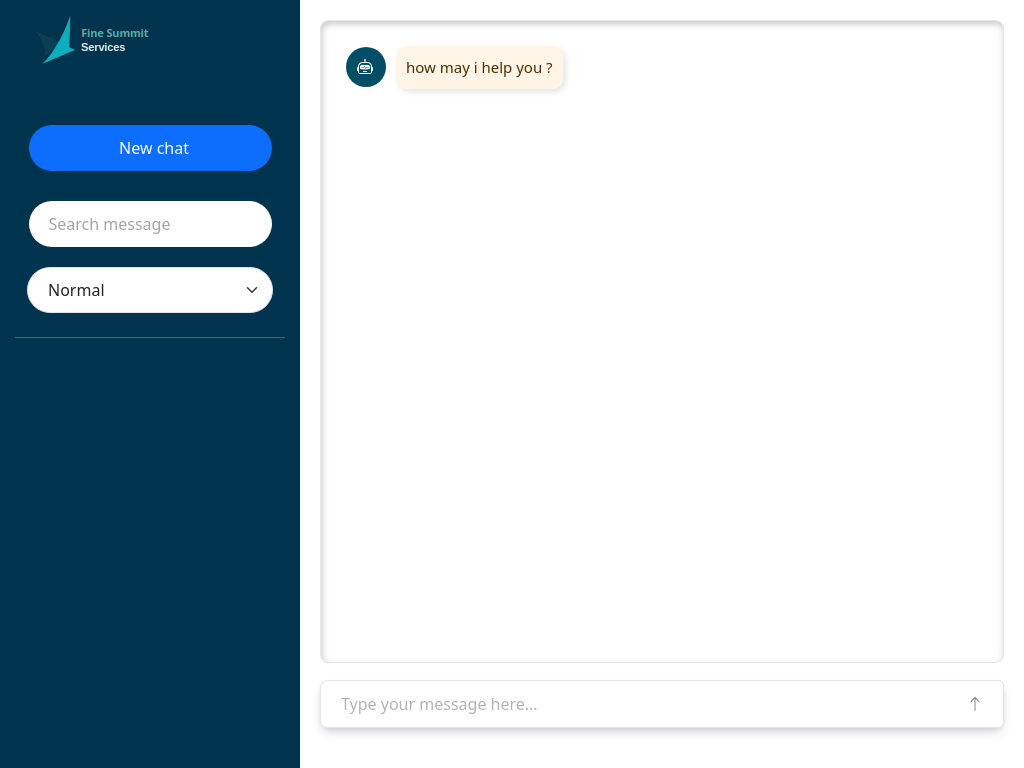
Test case: Dashboard Component Tests › should type in the input field and send messages by clicking the "send" button
The width and height of the screenshot is (1024, 768).
Type "Test message 1" into the field with id "messenger" at (634, 704), box x1=320 y1=680 x2=948 y2=728
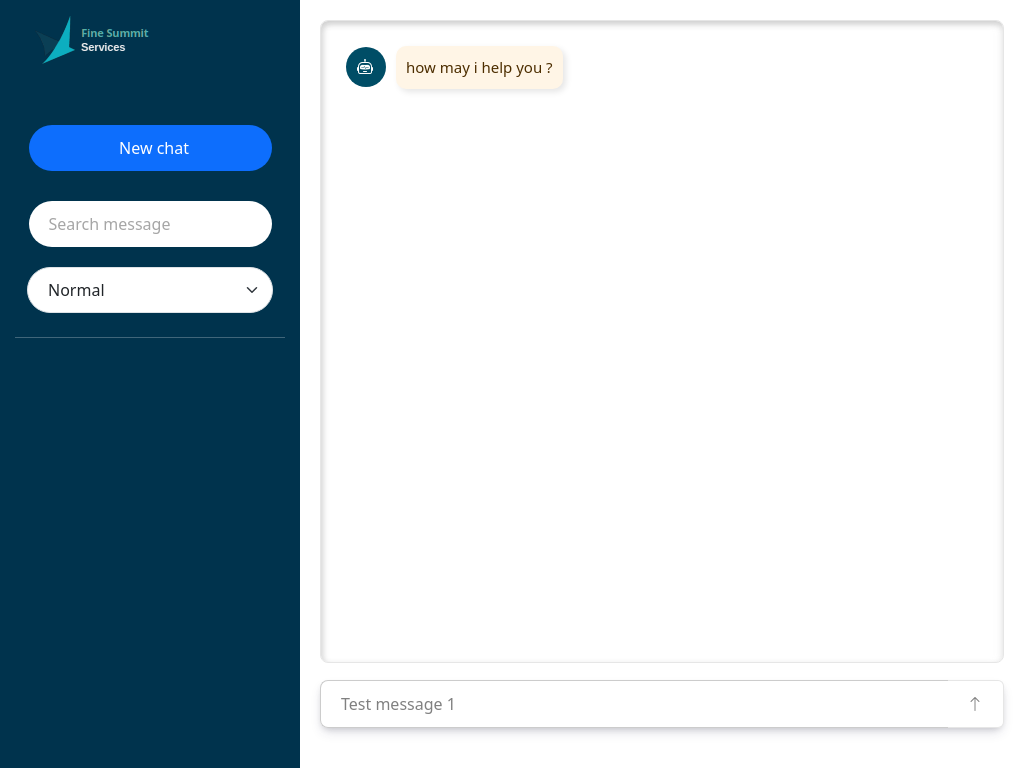
Click the button with id "send" at (976, 704), box x1=947 y1=680 x2=1004 y2=728
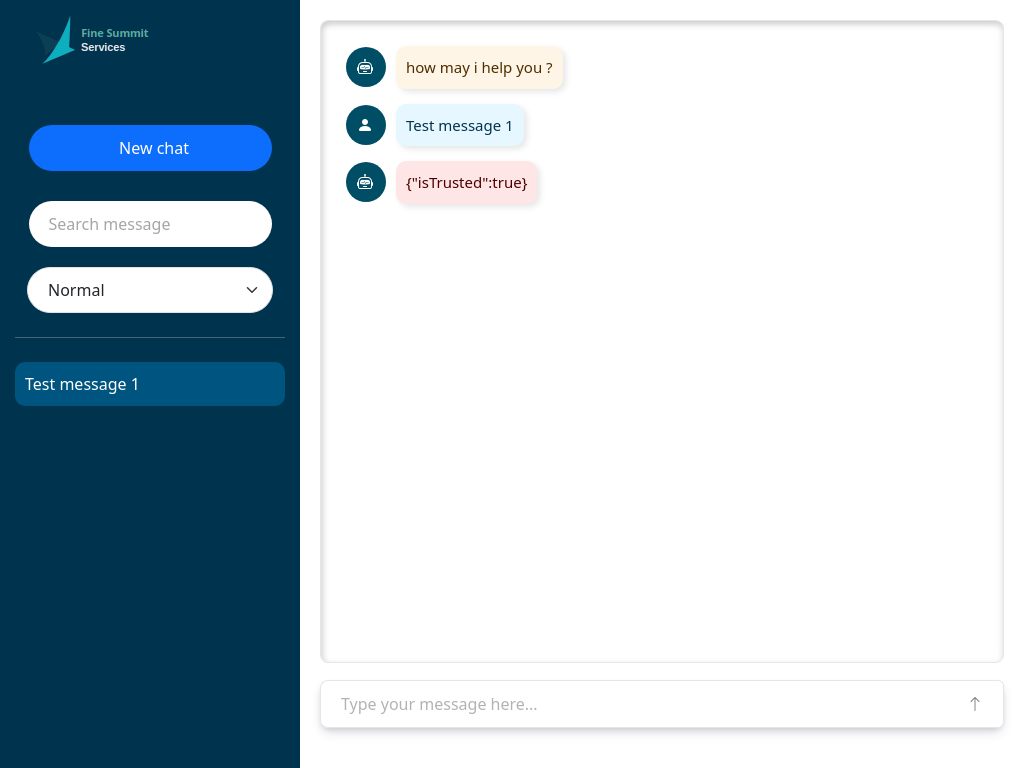
expect the text "Test message 1" is shown: met, box x1=396 y1=104 x2=524 y2=146
Type "Test message 2" into the field with id "messenger" at (634, 704), box x1=320 y1=680 x2=948 y2=728
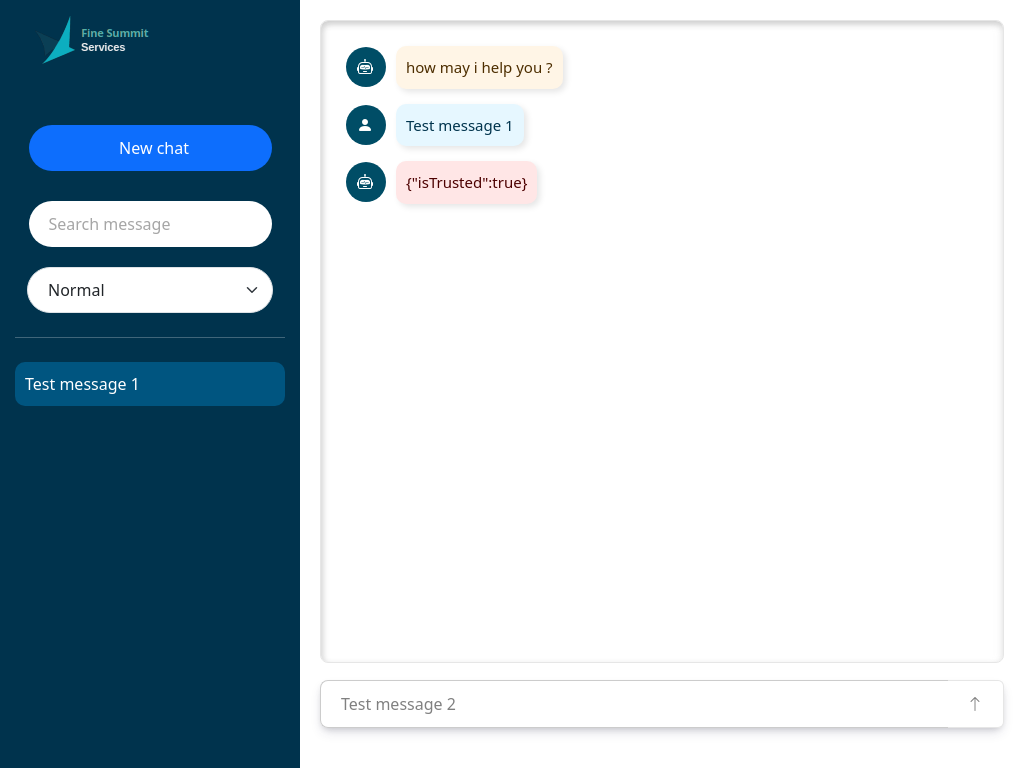
Click the button with id "send" at (976, 704), box x1=947 y1=680 x2=1004 y2=728
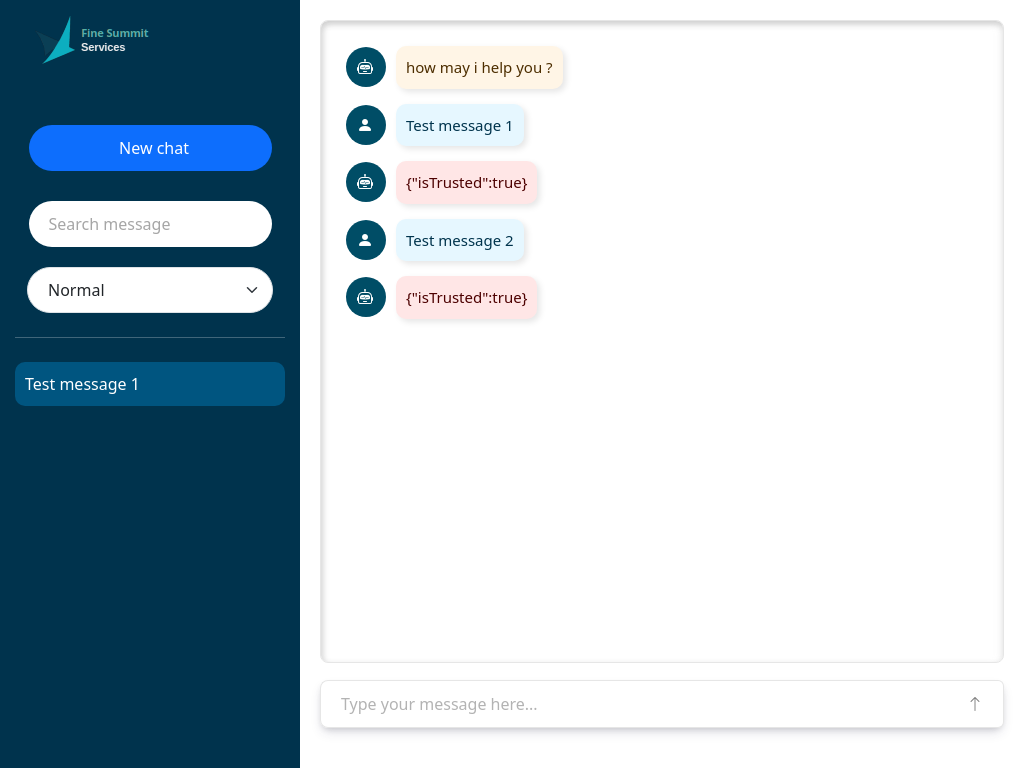
expect the text "Test message 2" is shown: met, box x1=396 y1=218 x2=524 y2=261
Type "Test message 3" into the field with id "messenger" at (634, 704), box x1=320 y1=680 x2=948 y2=728
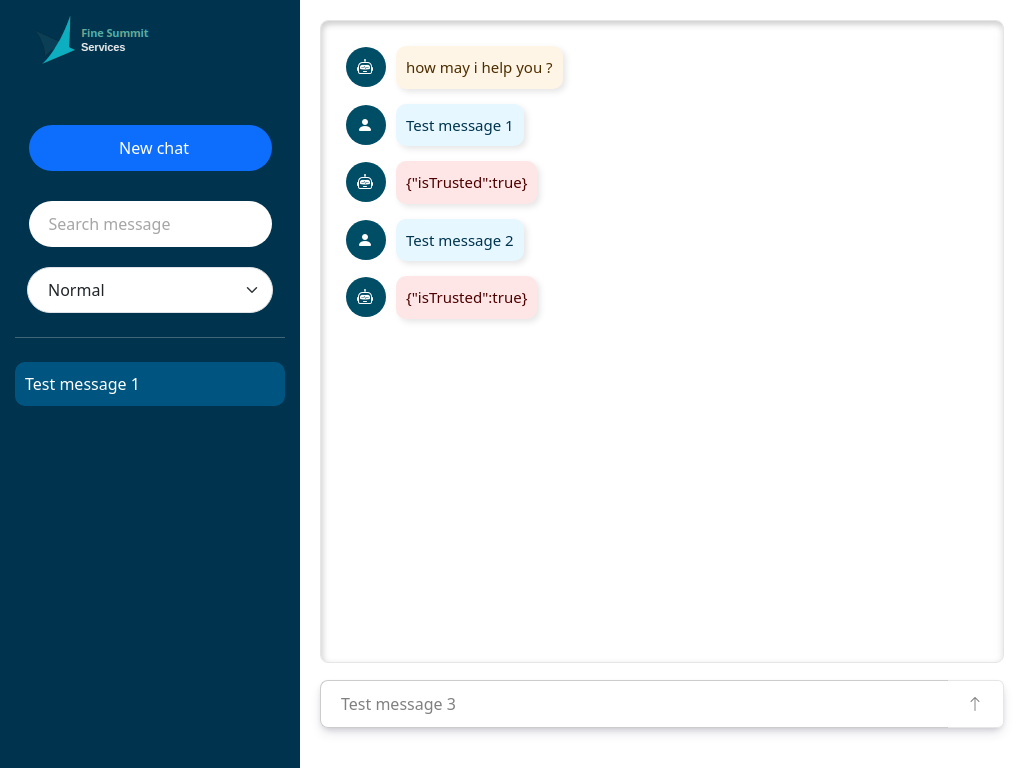
Click the button with id "send" at (976, 704), box x1=947 y1=680 x2=1004 y2=728
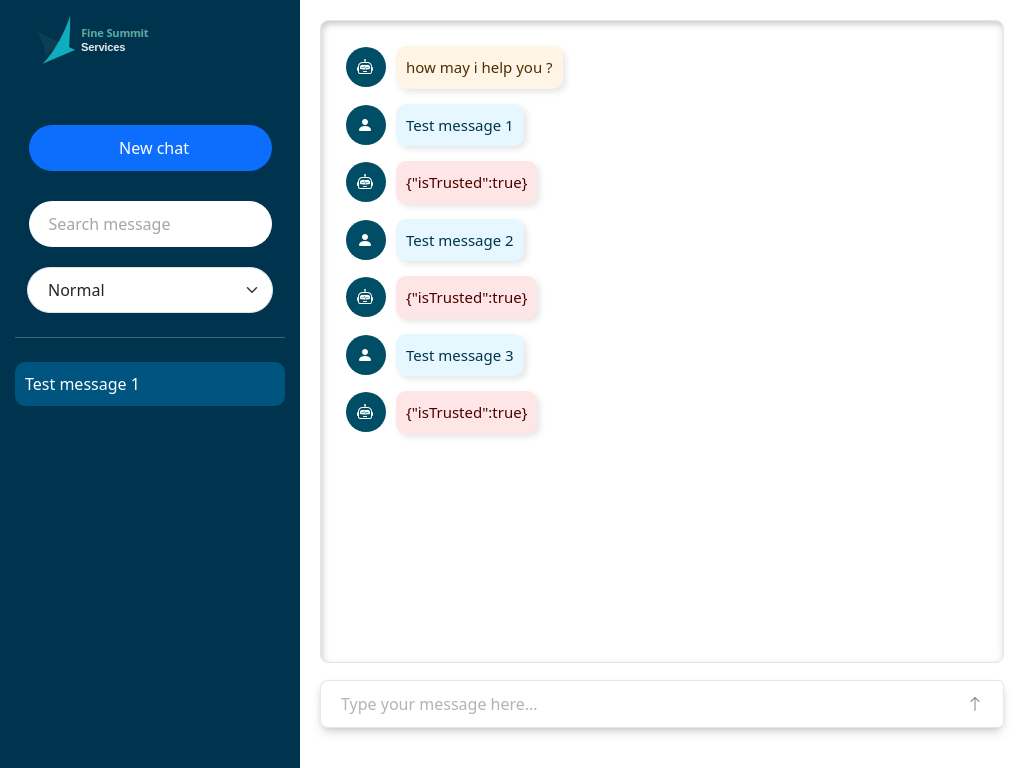
expect the text "Test message 3" is shown: met, box x1=396 y1=334 x2=524 y2=376
